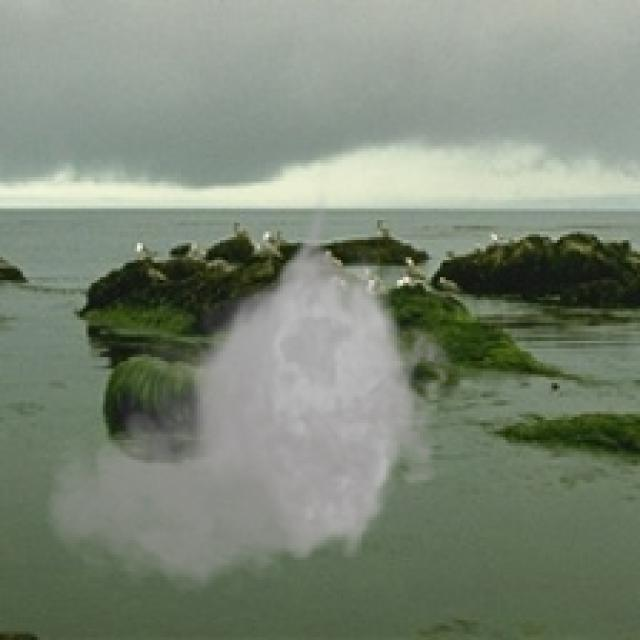Smoke: (40, 188, 466, 603)
